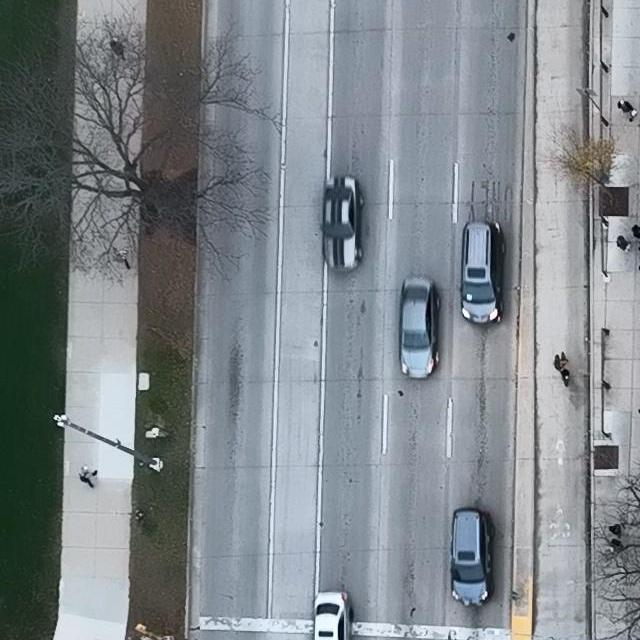car: (458, 221, 506, 325), (320, 175, 365, 275), (398, 276, 440, 381), (450, 508, 493, 608), (312, 589, 355, 640)
